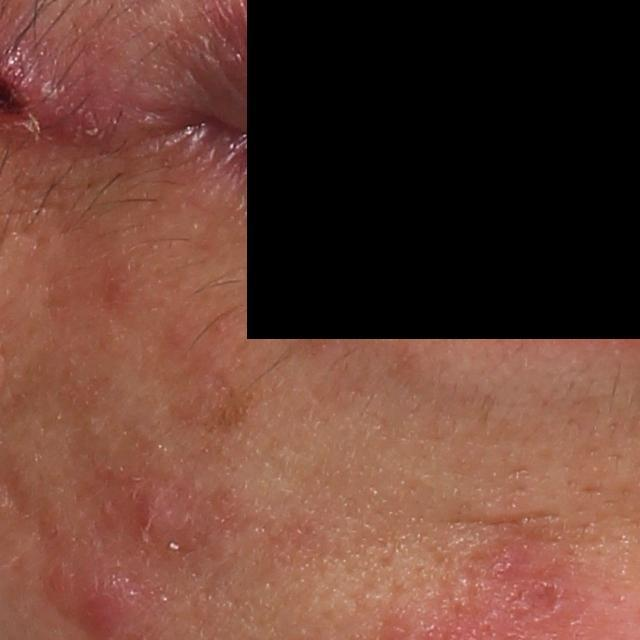papule: (125, 486, 185, 563)
